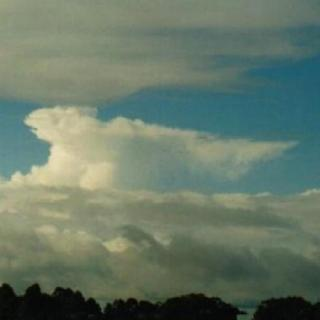Stratocumulus: (0, 1, 320, 294)
